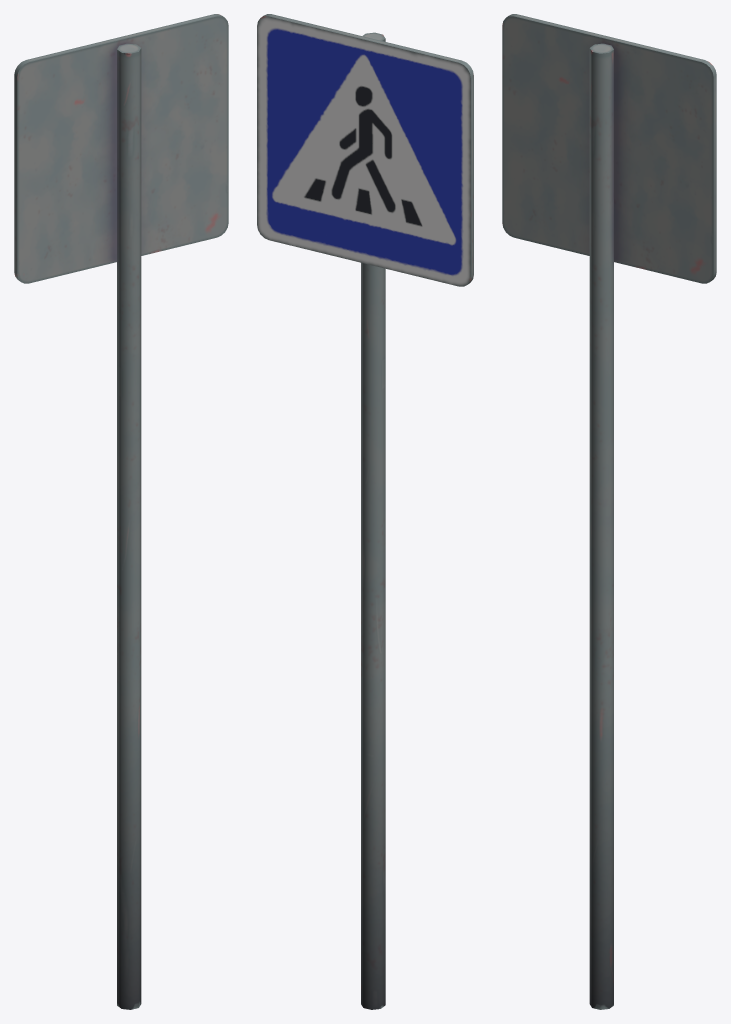
The model's file is crossing_road_sign.gltf.
The picture shows the model from 3 angles, left to right: view 1: azimuth 30°, elevation 25°; view 2: azimuth 150°, elevation 25°; view 3: azimuth 330°, elevation 25°; orthographic projection.
Visible parts, largest first — view 1: Sign, Stick; view 2: Sign, Stick; view 3: Sign, Stick.
Part boxes in pixels (x1,y1,x2,y2): Sign: (14,14,228,283); Stick: (117,43,141,1009); Sign: (257,14,473,286); Stick: (361,32,385,1009); Sign: (502,14,716,283); Stick: (589,43,613,1009).
Bounding box in the file's own units: 0.6 × 2.61 × 0.0728.
1 material, 1 textured.
